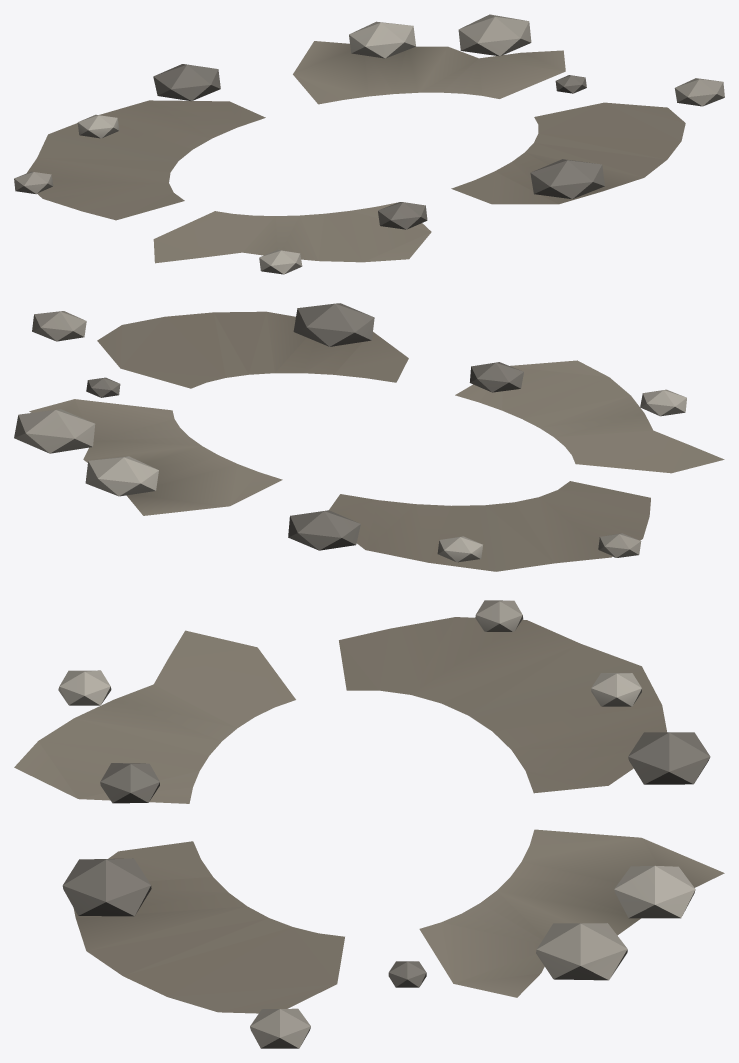
Rendered from quarry_skirt_c.glb.
3 renders of one model, top to bottom at view 1: azimuth 30°, elevation 25°; view 2: azimuth 150°, elevation 25°; view 3: azimuth 270°, elevation 25°, orthographic. The views are drawn at different scales.
Visible parts, largest first — view 1: quarry_skirt_c; view 2: quarry_skirt_c; view 3: quarry_skirt_c.
Part boxes in pixels (bbox=[...]): quarry_skirt_c: bbox=[14, 14, 724, 274]; quarry_skirt_c: bbox=[14, 303, 724, 571]; quarry_skirt_c: bbox=[14, 600, 724, 1048].
Bounding box in the file's own units: 2.65 × 0.1238 × 1.79.
